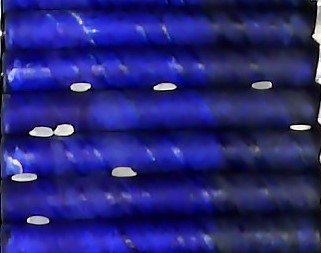broken_grain: (109, 165, 140, 182)
complete_grain: (28, 123, 54, 141), (249, 78, 275, 95), (23, 214, 51, 228), (10, 172, 39, 184), (53, 123, 76, 138), (69, 81, 93, 95), (152, 80, 177, 92), (287, 123, 312, 133)
